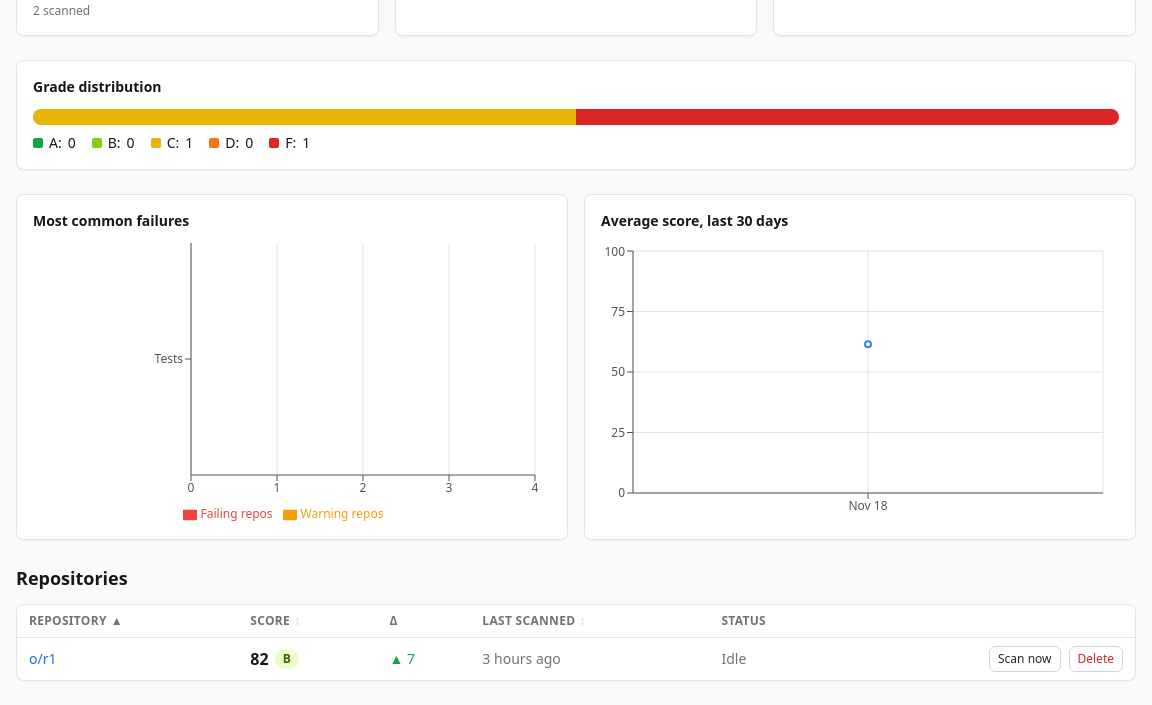
Test case: dashboard › asks for confirmation before deleting, and cancel deletes nothing
The image size is (1152, 705).
(page scrolled)
Click the button with aria-label "Delete o/r1".
click(1096, 659)  # box [1068, 646, 1123, 672]
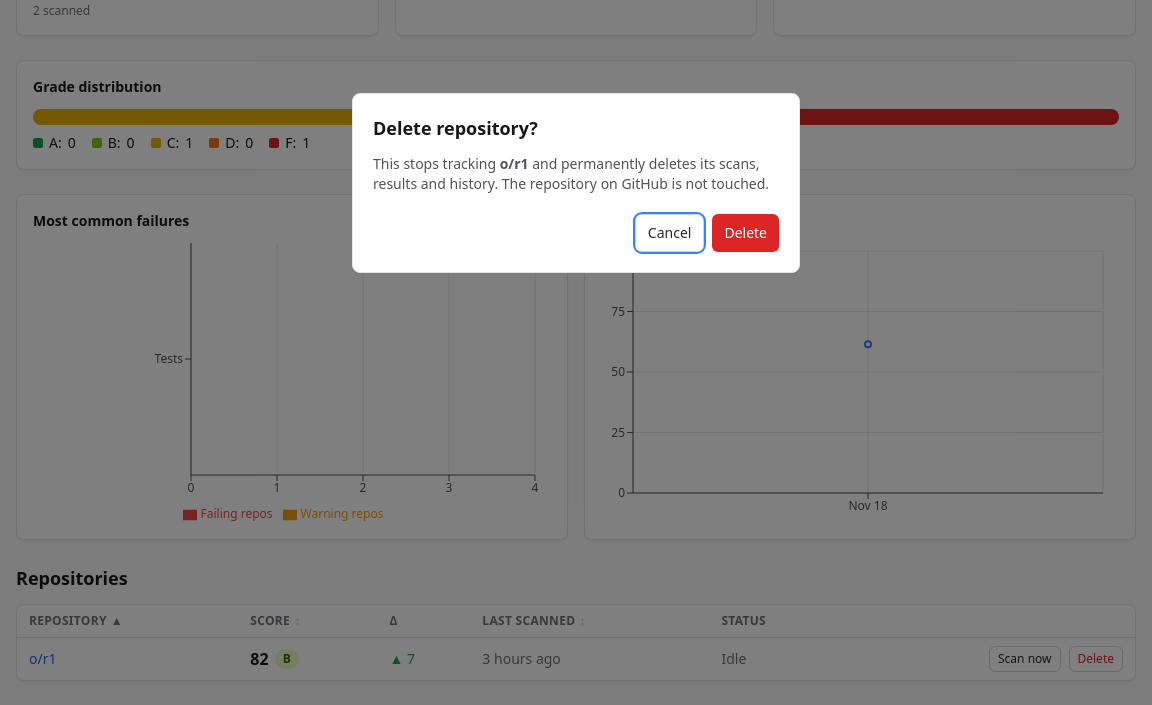
Now the text "permanently deletes its scans" is shown, box [373, 154, 769, 193]
Click the button "Cancel".
click(670, 233)  # box [635, 214, 704, 252]
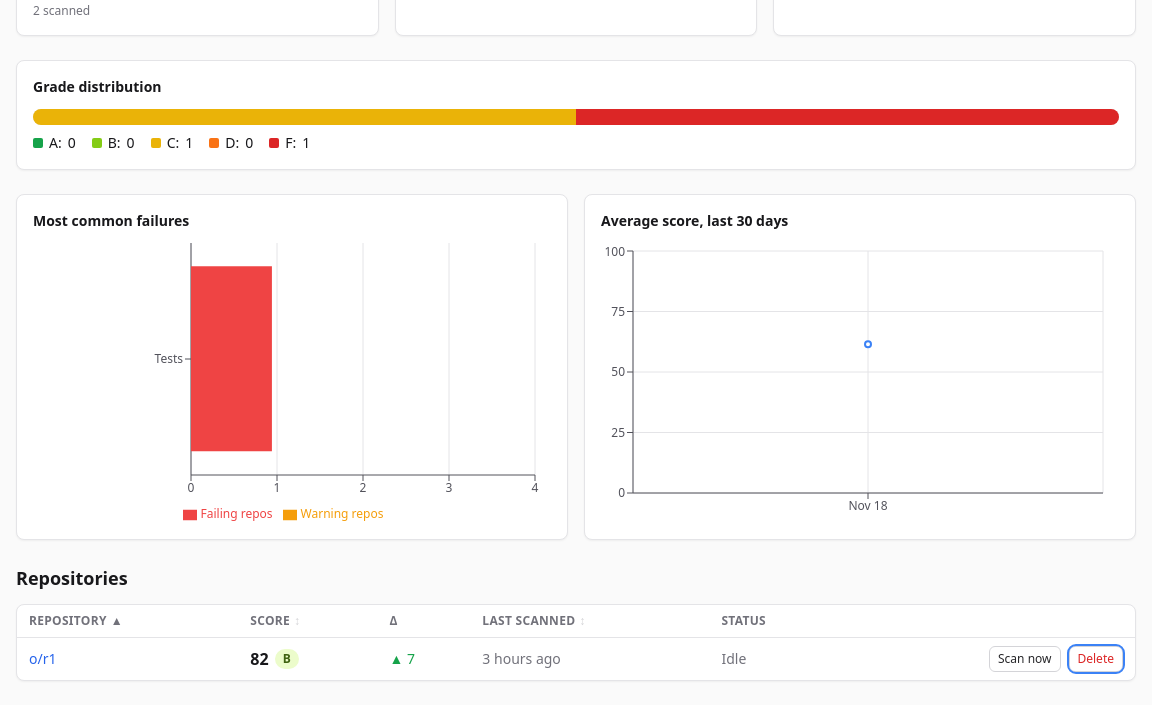
Now the dialog is gone
Click the button with aria-label "Delete o/r1".
click(1096, 659)  # box [1068, 646, 1123, 672]
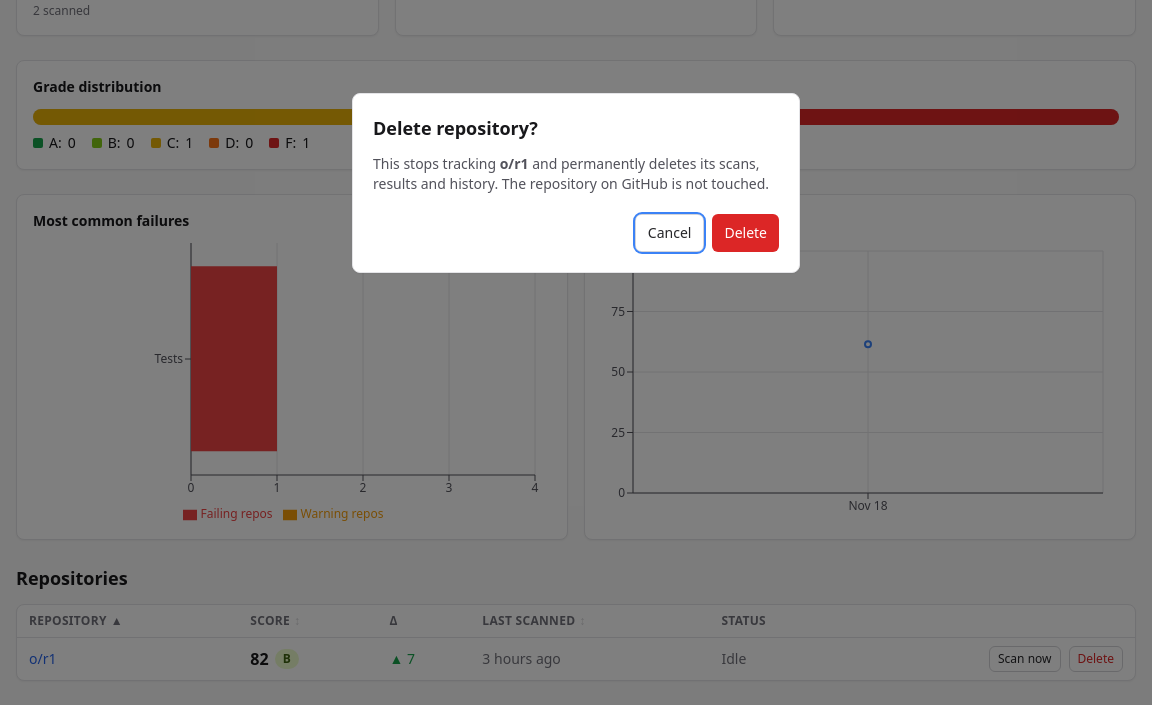
Click the button "Delete".
click(746, 233)  # box [712, 214, 779, 252]
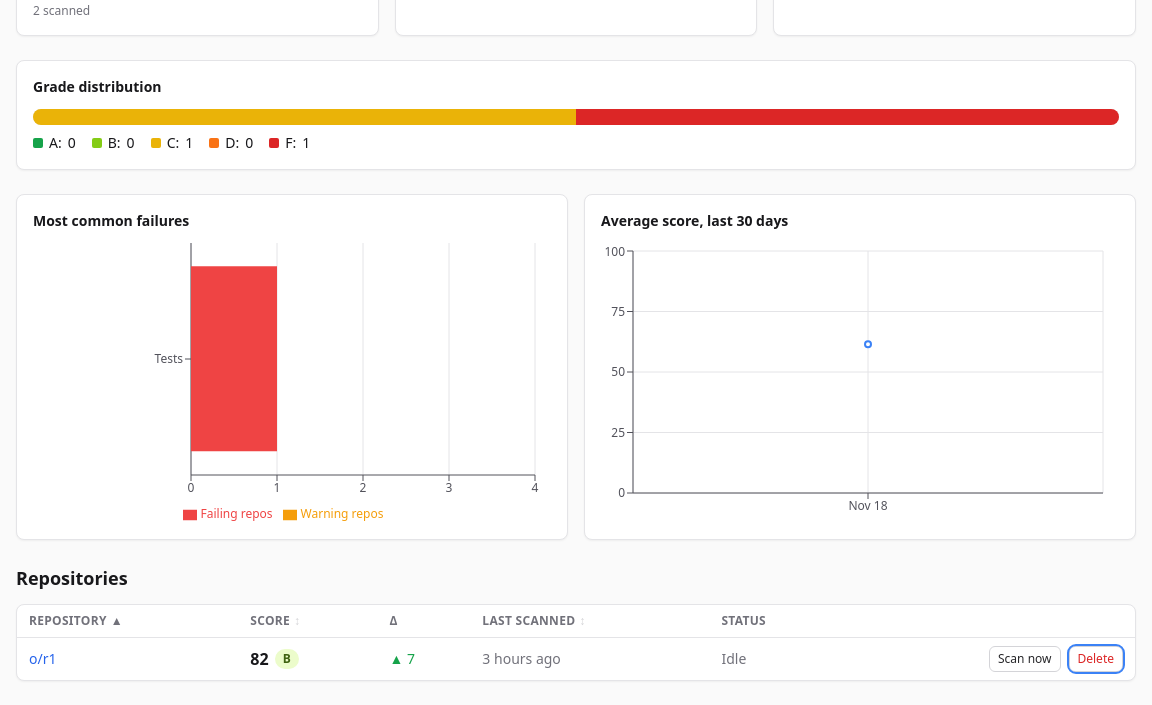
Now the dialog is gone
